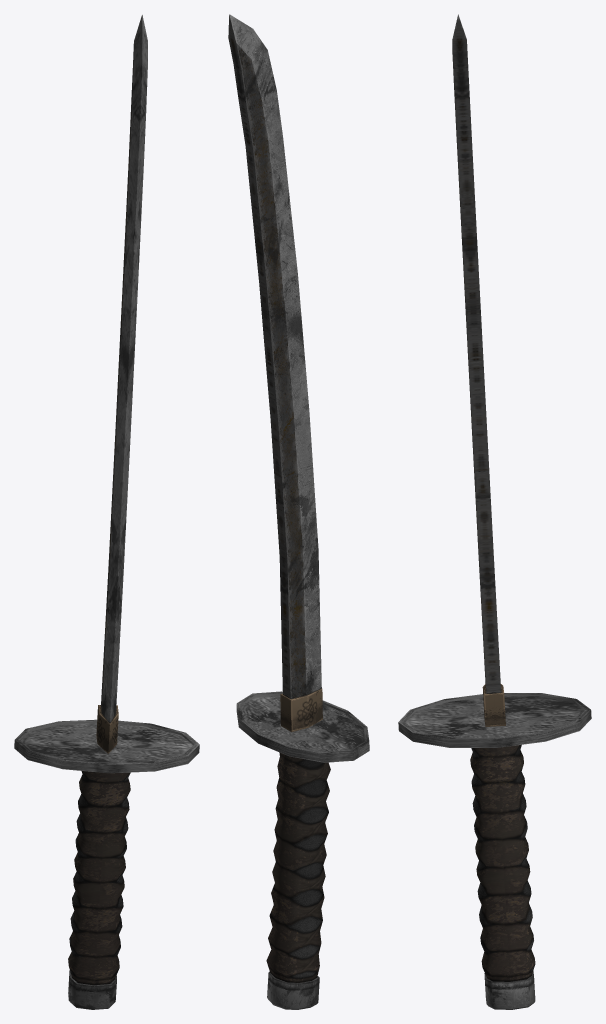
3 views of the same model, side by side, from view 1: azimuth 90°, elevation 25°; view 2: azimuth 210°, elevation 25°; view 3: azimuth 270°, elevation 25° (orthographic). The views are drawn at different scales.
Parts seen in each view (by area): view 1: Object_2; view 2: Object_2; view 3: Object_2.
Boxes of the visible parts, x1,y1,x2,y2 form: Object_2: (14,15,199,1009); Object_2: (228,14,369,1009); Object_2: (398,14,591,1009).
Bounding box in the file's own units: 0.5693 × 5.21 × 0.9035.
1 material, 1 textured.
